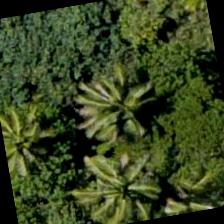Kelapa_Sawit: (54, 41, 158, 145), (66, 151, 167, 223), (0, 91, 66, 190), (185, 144, 223, 212)
